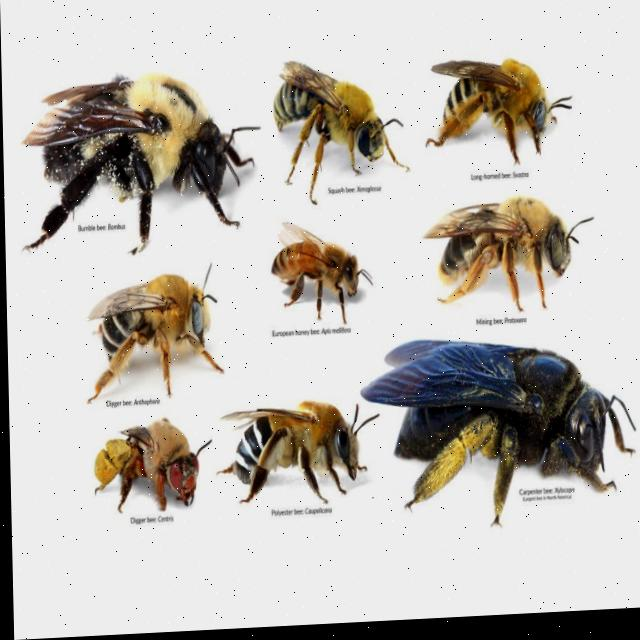Apis-mellifera-scutellata: (266, 213, 375, 354)
Xylocopa: (364, 319, 632, 566)
